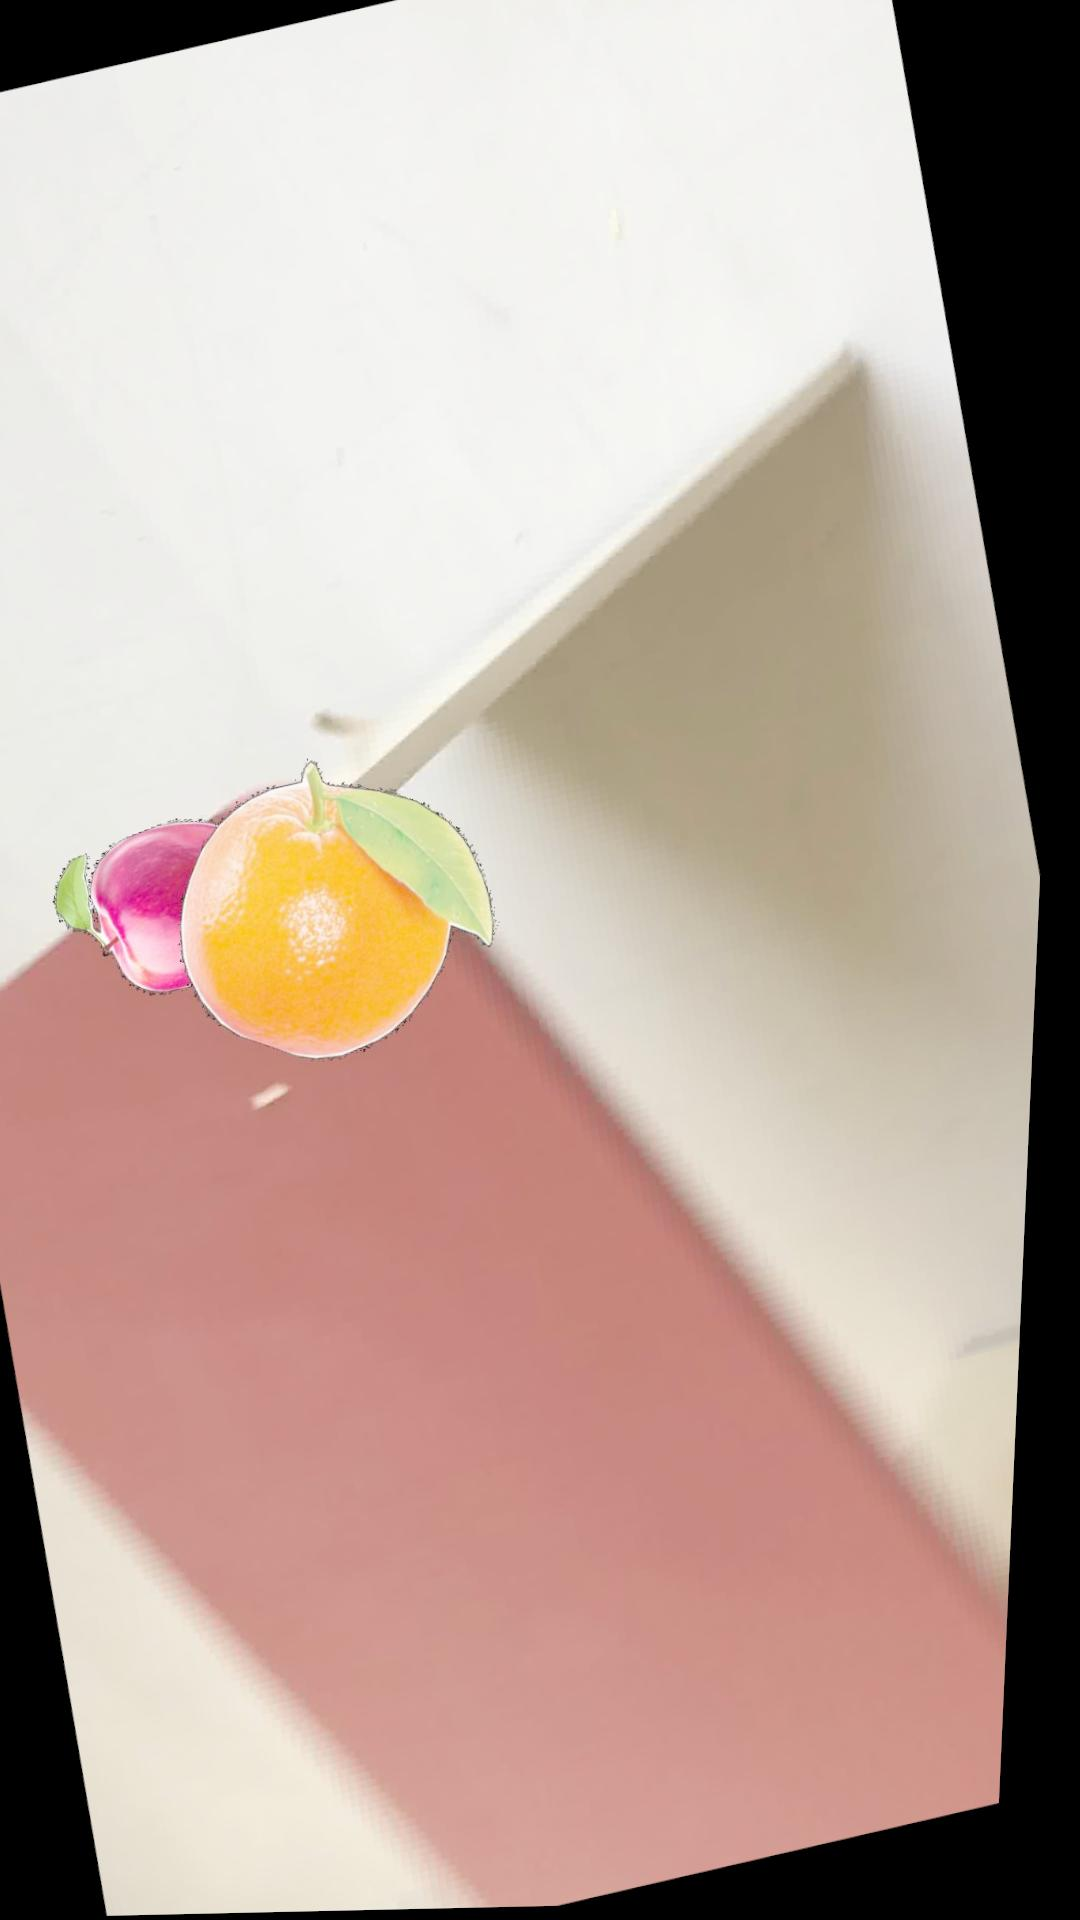apple: (62, 820, 228, 997)
orange: (190, 764, 504, 1063)
